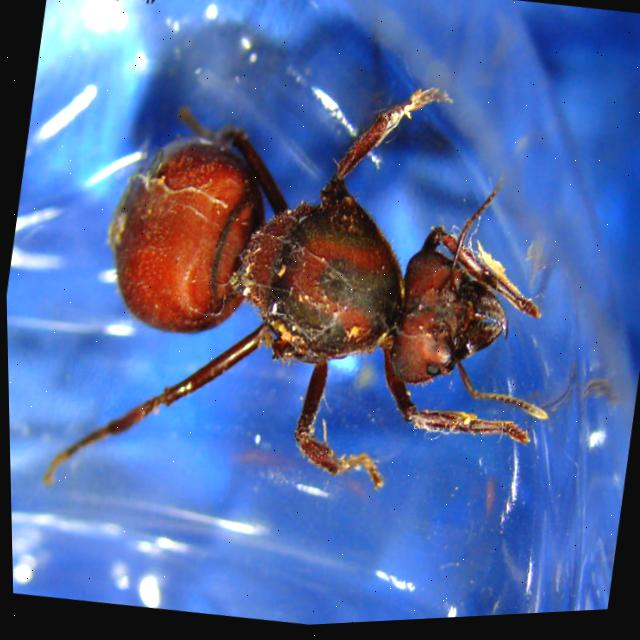Alive-Female-Dealate: (31, 32, 595, 563)
